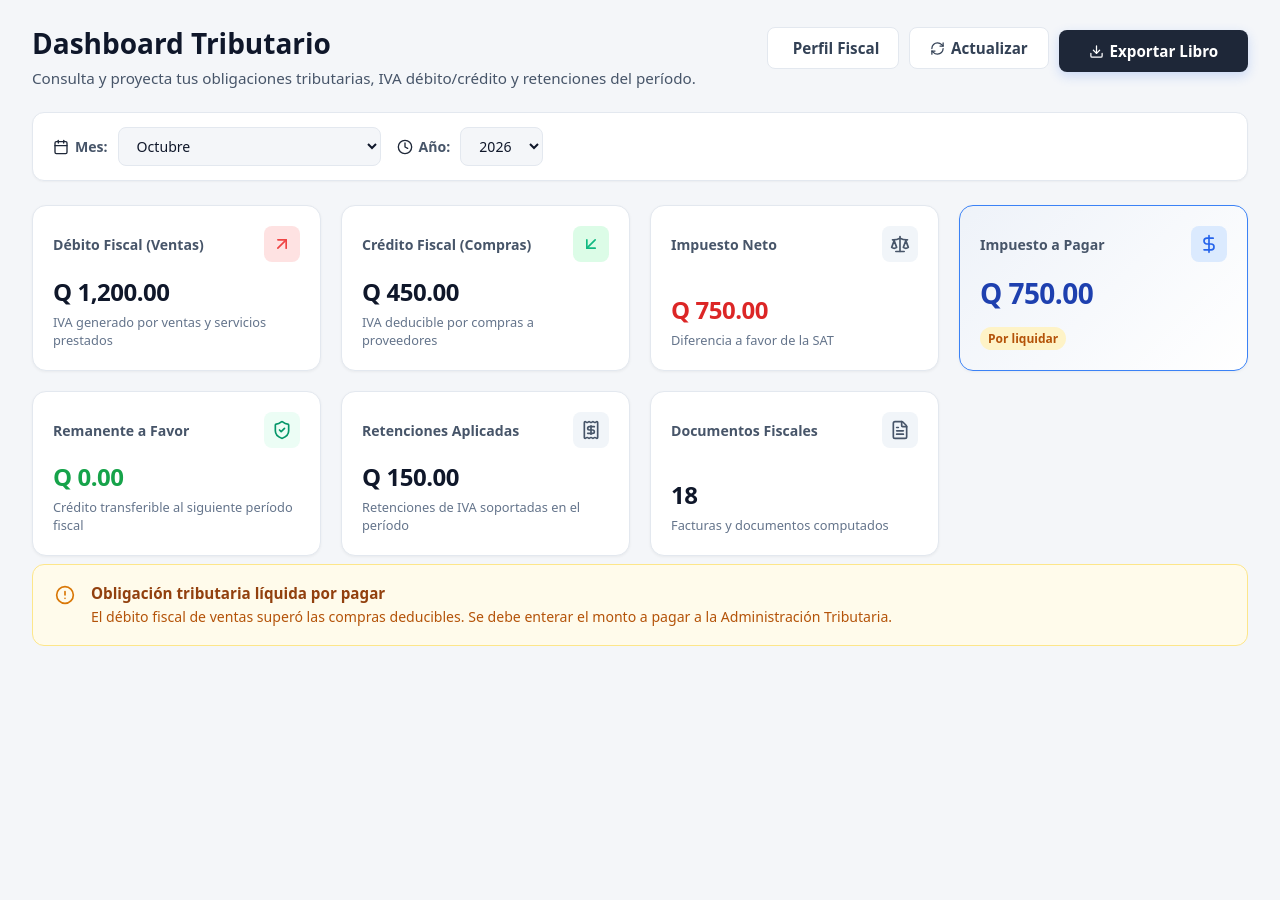
Scenario: TaxDashboardView › permite abrir el modal de perfil fiscal desde el botón del encabezado
Step 1. Click the button "Perfil Fiscal" → (833, 48), box [767,27,899,69]
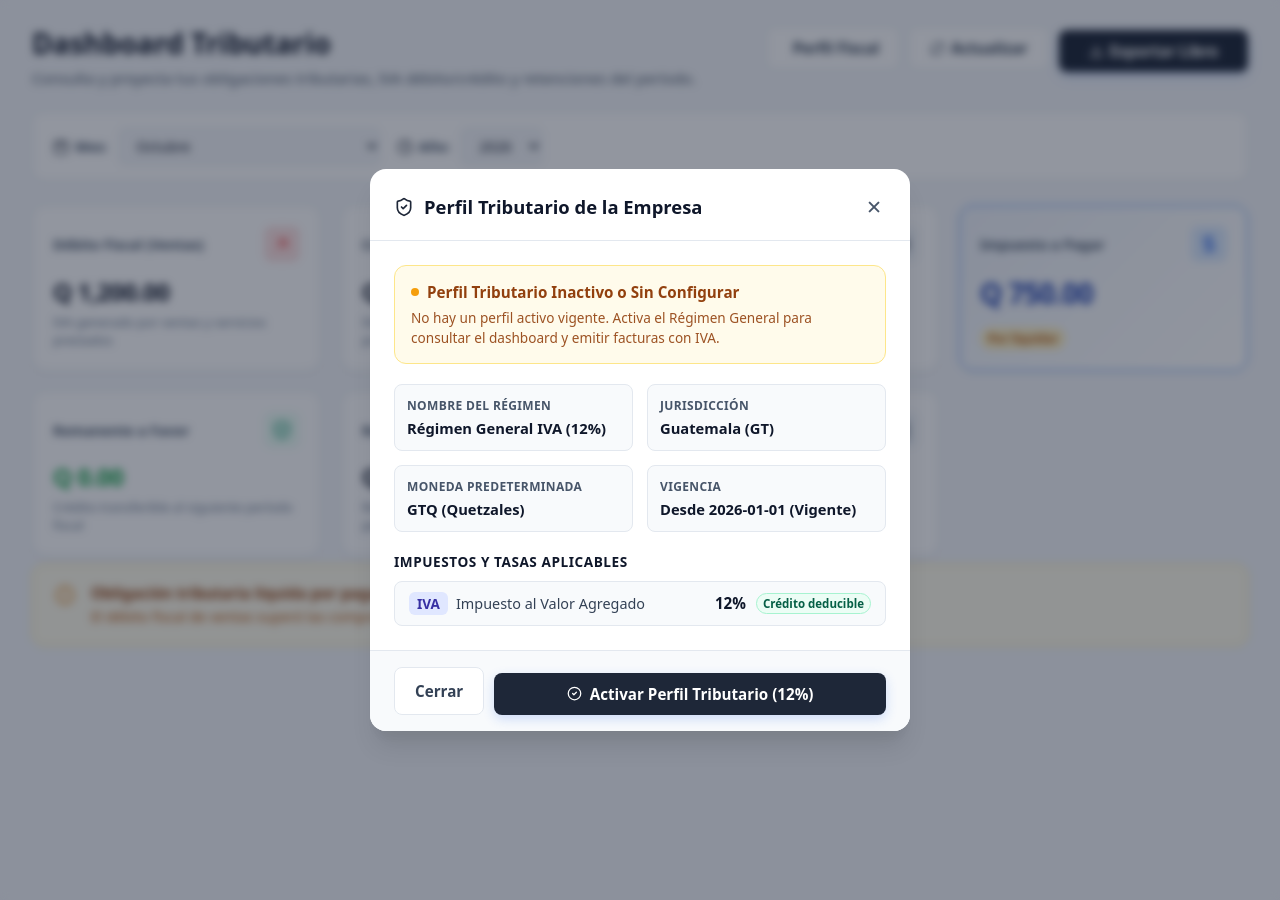
Now the dialog is shown, box [370,170,910,731]
Now the text "Perfil Tributario de la Empresa" is shown, box [424,194,702,220]
